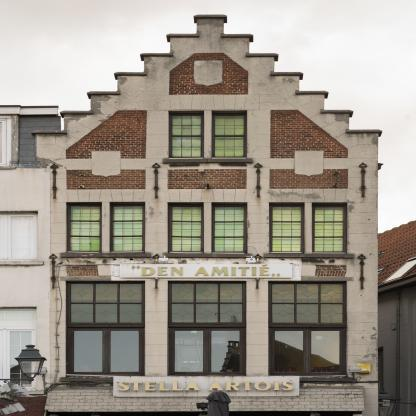Building Outline: (31, 14, 384, 416)
Deco: (120, 264, 292, 278)
Facade: (50, 164, 379, 416)
Floor: (50, 270, 378, 387), (50, 183, 378, 271)
Floor Slab: (50, 177, 378, 183), (50, 382, 378, 387), (50, 265, 378, 270)
Ground Floor: (50, 387, 378, 416)
Roof: (44, 387, 365, 412)
Shop: (113, 376, 299, 397)
Sill: (59, 377, 354, 382), (264, 253, 355, 258), (162, 253, 253, 258), (60, 253, 151, 257), (163, 159, 253, 163)
Top Floor: (64, 110, 349, 183)
Window: (268, 281, 347, 376), (66, 281, 145, 376), (168, 281, 247, 376), (66, 202, 102, 253), (168, 202, 204, 253), (269, 203, 305, 254), (312, 203, 347, 254), (110, 202, 145, 253), (212, 202, 247, 253), (212, 111, 247, 158), (169, 111, 204, 158)
dont: (205, 391, 231, 416)
